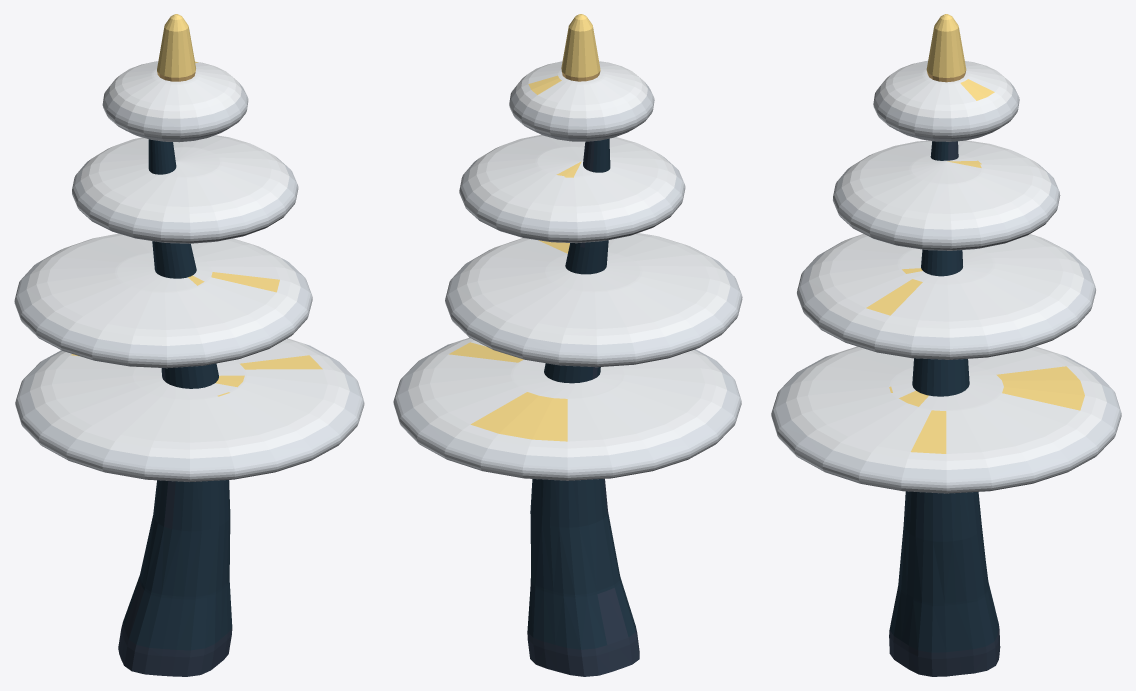
Rendered from StarwoodTree.obj.
3 views of the same model, side by side, from view 1: azimuth 30°, elevation 25°; view 2: azimuth 150°, elevation 25°; view 3: azimuth 270°, elevation 25° (orthographic).
Bounding box in the file's own units: 6.43 × 12.8 × 6.34.
